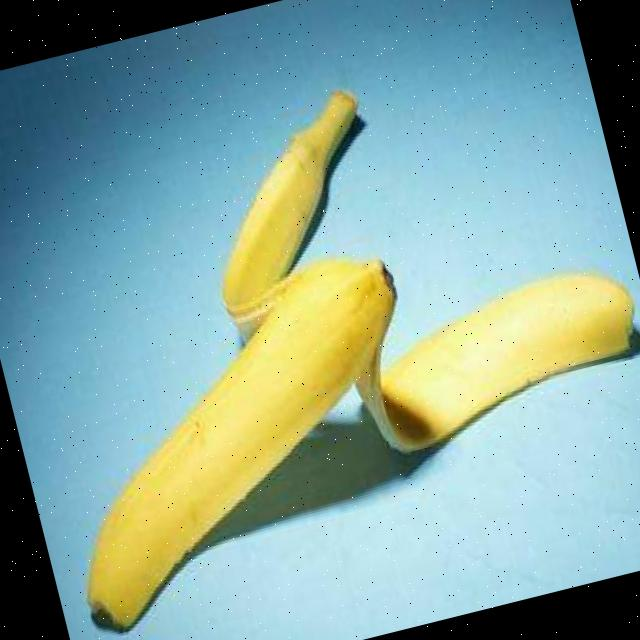banana-peel: (18, 239, 462, 639), (340, 253, 640, 463)
